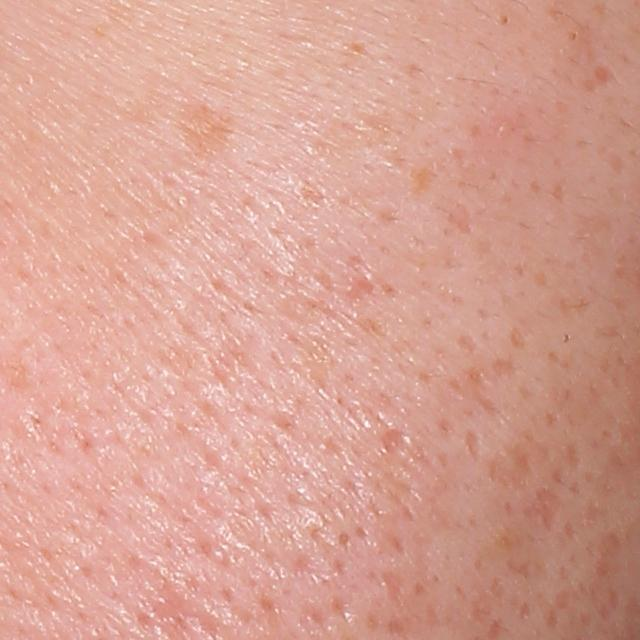atrophic_scar: (523, 489, 562, 533), (377, 425, 414, 461), (593, 63, 618, 88)
comedo: (568, 24, 582, 47), (498, 11, 512, 31)
